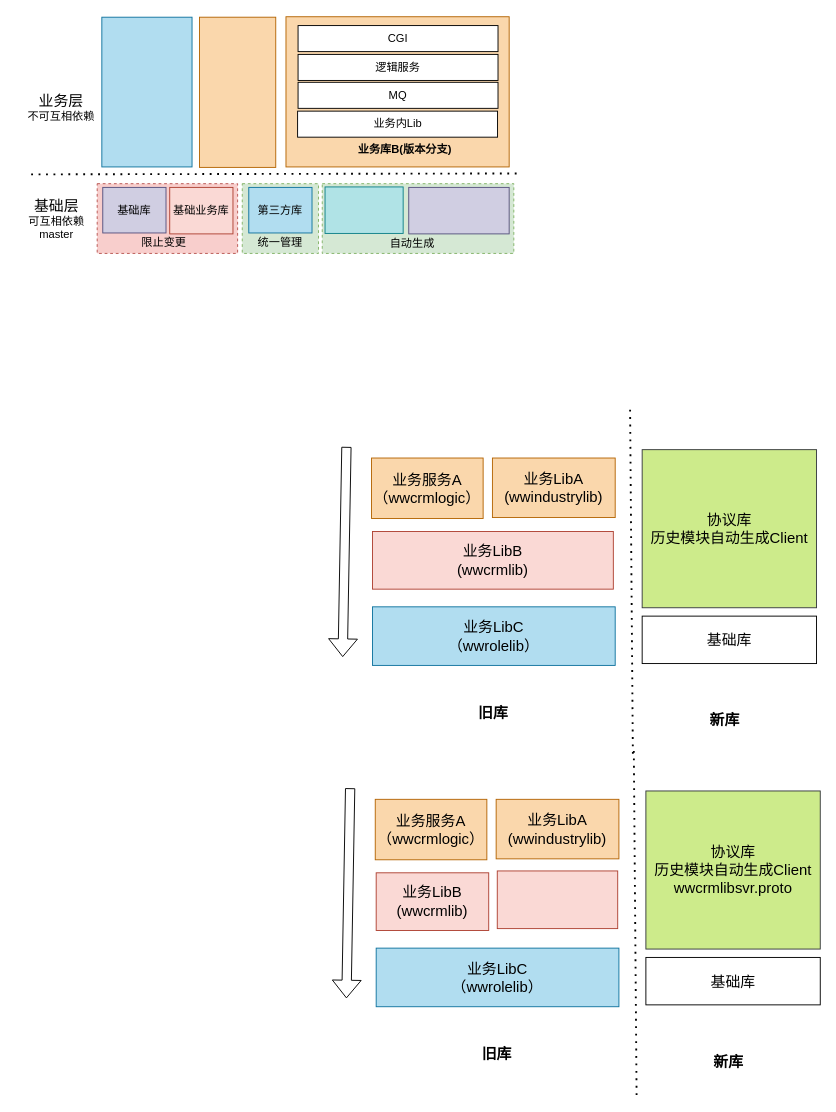
The diagram is 836 pixels wide and 1112 high, and some of its shapes have lost their labels. Here are the shapes that lost their labels. From the top down, the centre of each, then its label:
At (146,91): "组件库 （master） pkv/mpkv search".
At (237,91): "业务库A (master)".
At (363,209): "协议库 Proto/Client".
At (458,210): "业务域公共头文件 错误码/文案ID".
